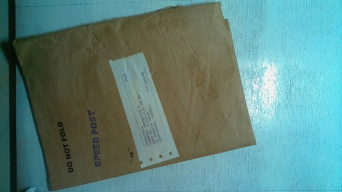l: (10, 1, 270, 185)
